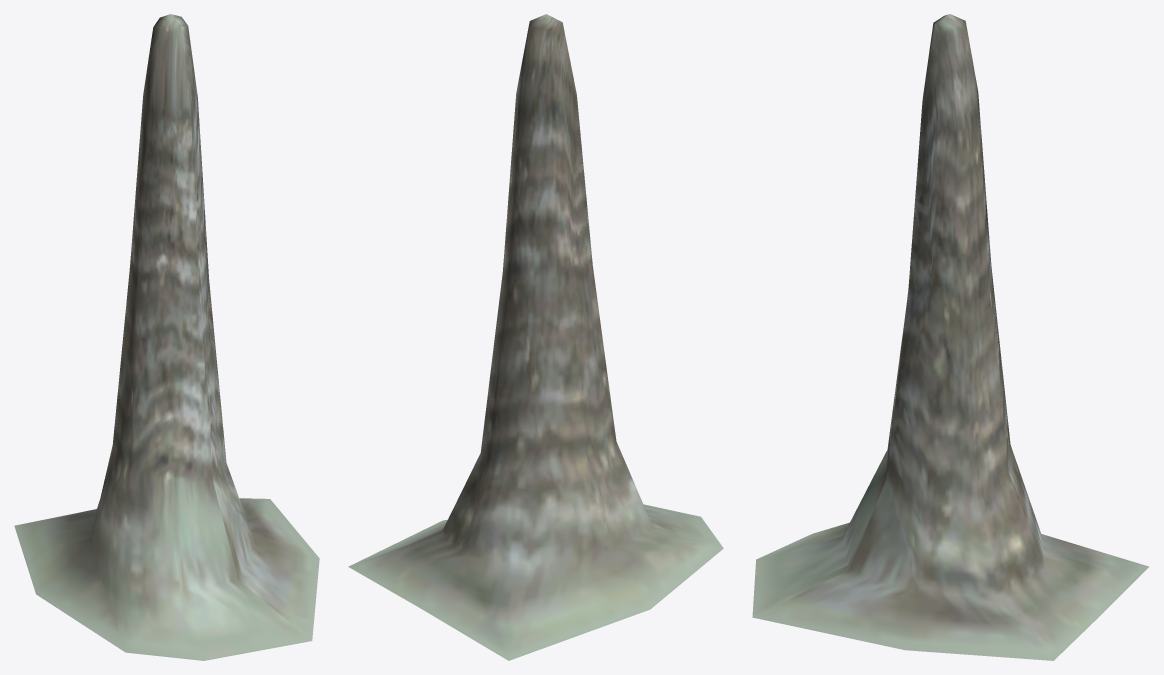
The model's file is TROLLHOLE02_PS-MAINSTALAG52.fbx.
3 renders of one model, left to right at view 1: azimuth 30°, elevation 25°; view 2: azimuth 150°, elevation 25°; view 3: azimuth 270°, elevation 25°, orthographic. The views are drawn at different scales.
Visible parts, largest first — view 1: TROLLHOLE02_PS-MAINSTALAG52; view 2: TROLLHOLE02_PS-MAINSTALAG52; view 3: TROLLHOLE02_PS-MAINSTALAG52.
Part boxes in pixels (left/top/right/bottom): TROLLHOLE02_PS-MAINSTALAG52: left=14, top=14, right=319, bottom=660; TROLLHOLE02_PS-MAINSTALAG52: left=348, top=14, right=723, bottom=660; TROLLHOLE02_PS-MAINSTALAG52: left=752, top=14, right=1148, bottom=660.
Bounding box in the file's own units: 20976 × 42231 × 26102.
Materials: 1 (1 with a texture image).
